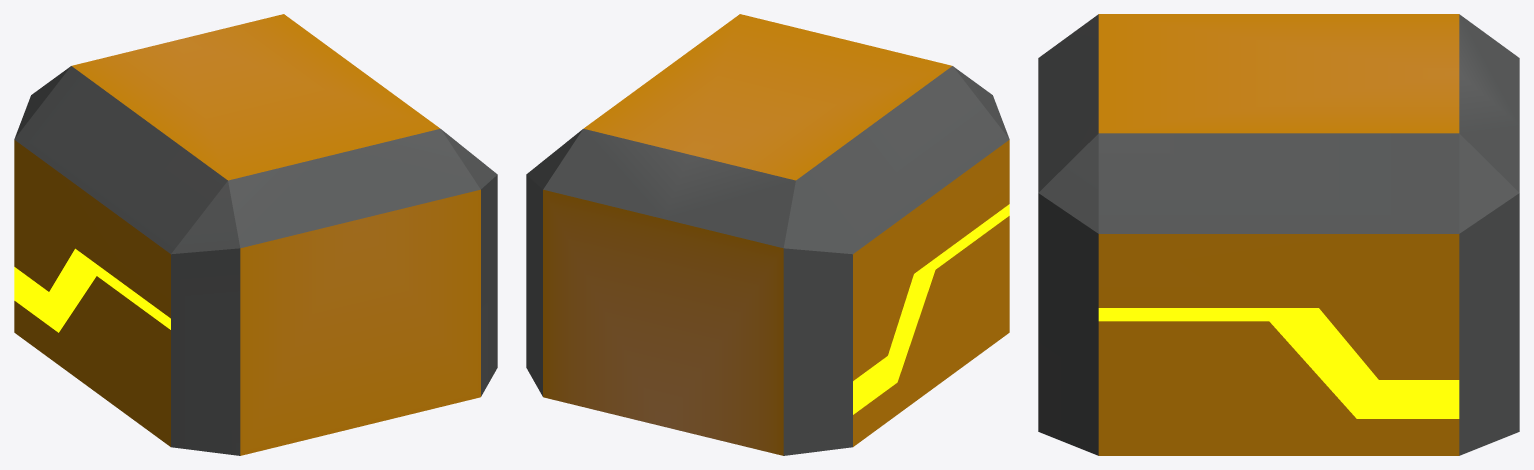
File: goods.glb
3 renders of one model, left to right at view 1: azimuth 30°, elevation 25°; view 2: azimuth 150°, elevation 25°; view 3: azimuth 270°, elevation 25°, orthographic. The views are drawn at different scales.
Parts seen in each view (by area): view 1: Cylinder.003; view 2: Cylinder.003; view 3: Cylinder.003.
Part boxes in pixels (x1,y1,x2,y2): Cylinder.003: [14, 14, 497, 455]; Cylinder.003: [526, 14, 1009, 455]; Cylinder.003: [1038, 14, 1519, 455].
Bounding box in the file's own units: 3.86 × 2.85 × 4.28.
